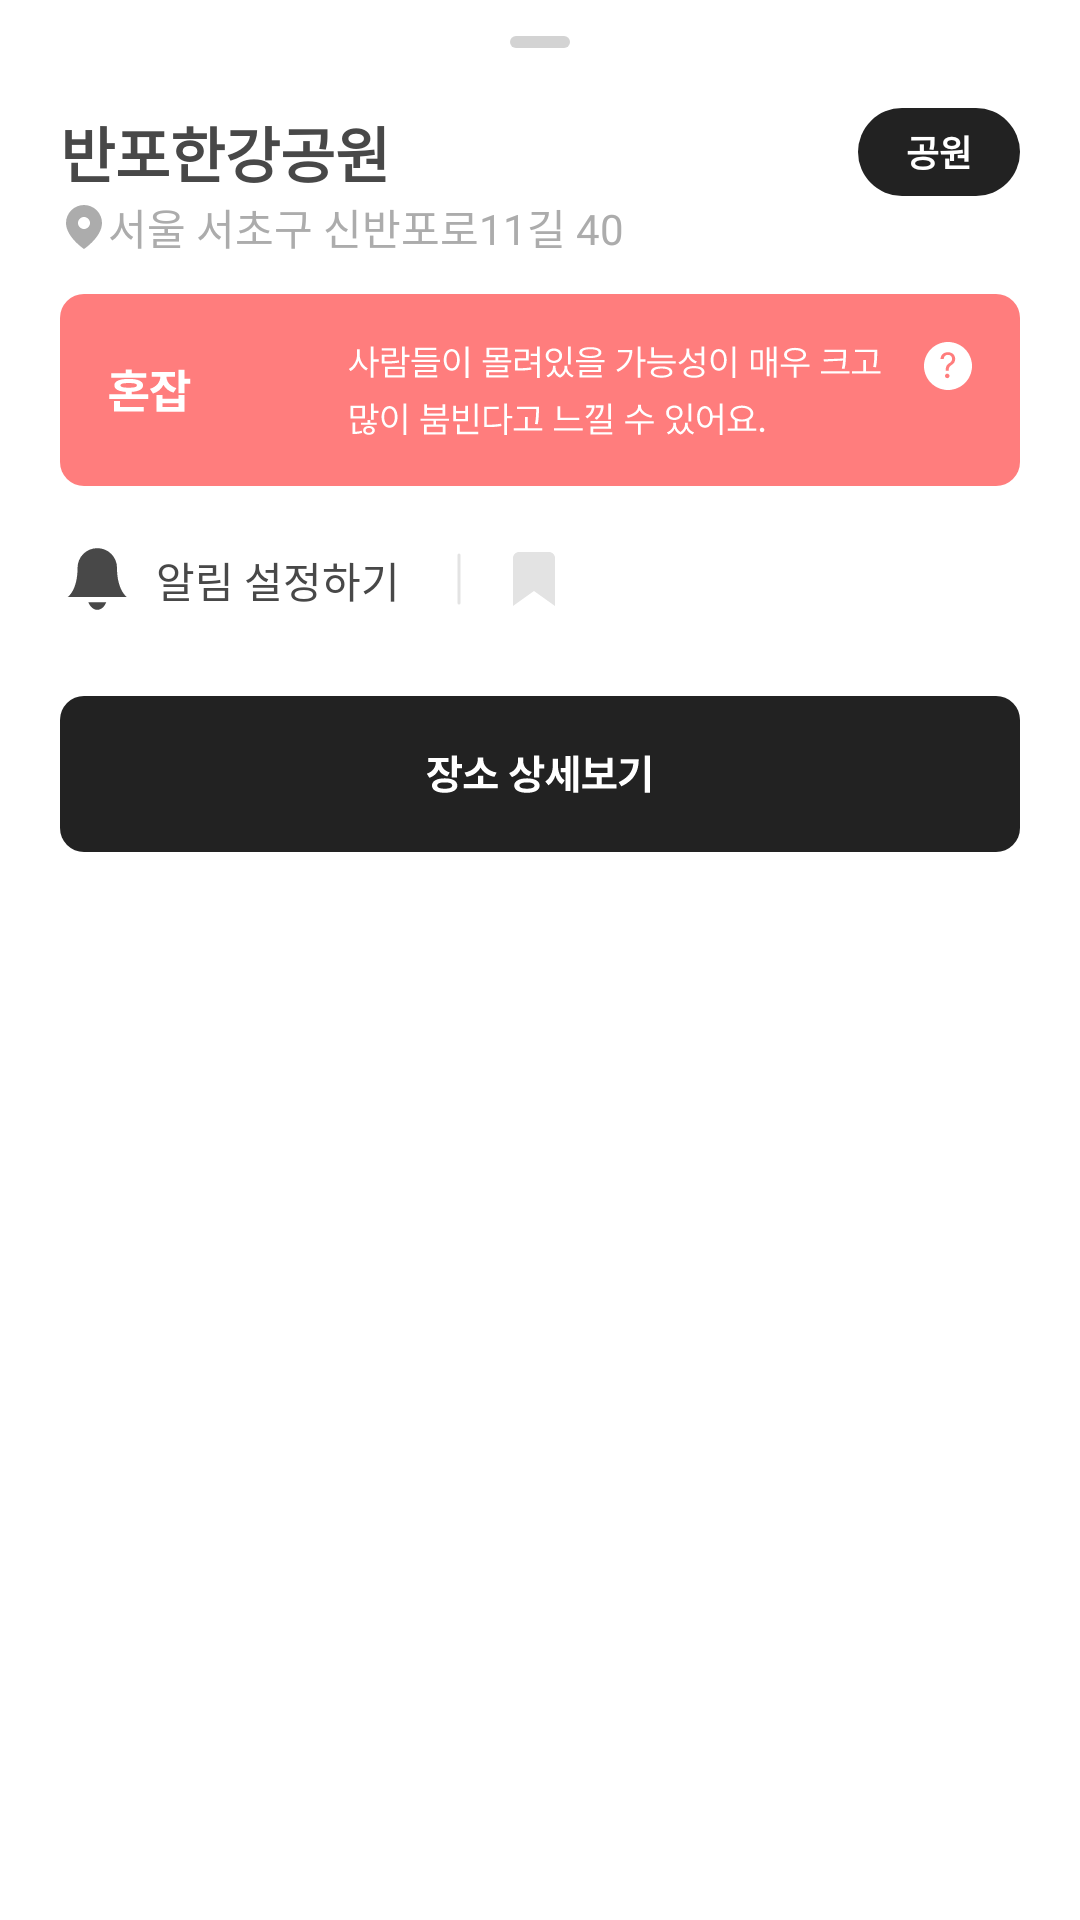

Where to tap for icons on this 1080w x 1920h app screen, as [x,y]:
address tiny acacac: [84,227]
bookmark: [534,578]
notification: [97,579]
